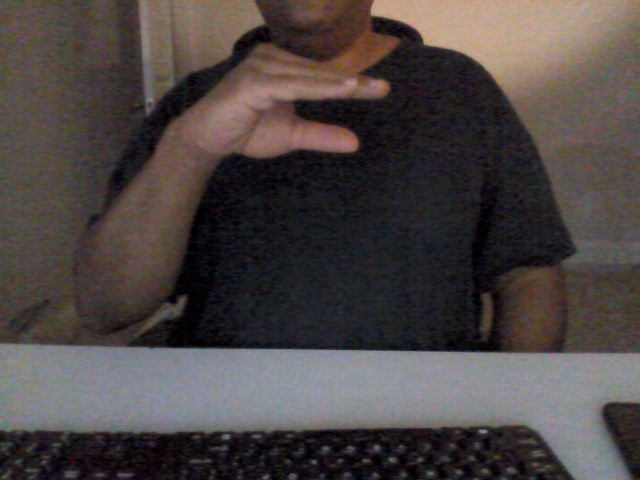no: (153, 43, 397, 165)
